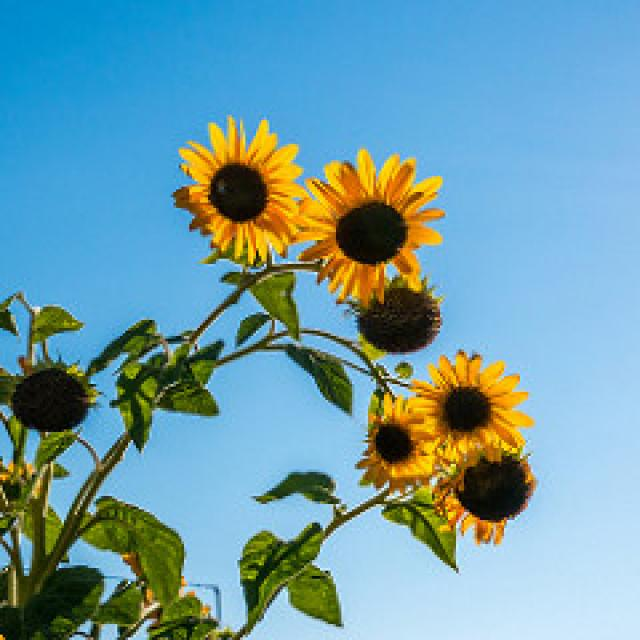sunflower: (299, 144, 448, 309), (169, 112, 303, 264), (404, 344, 543, 469), (431, 438, 545, 550), (354, 392, 449, 499), (356, 274, 449, 362), (7, 360, 97, 435), (0, 459, 43, 528)
